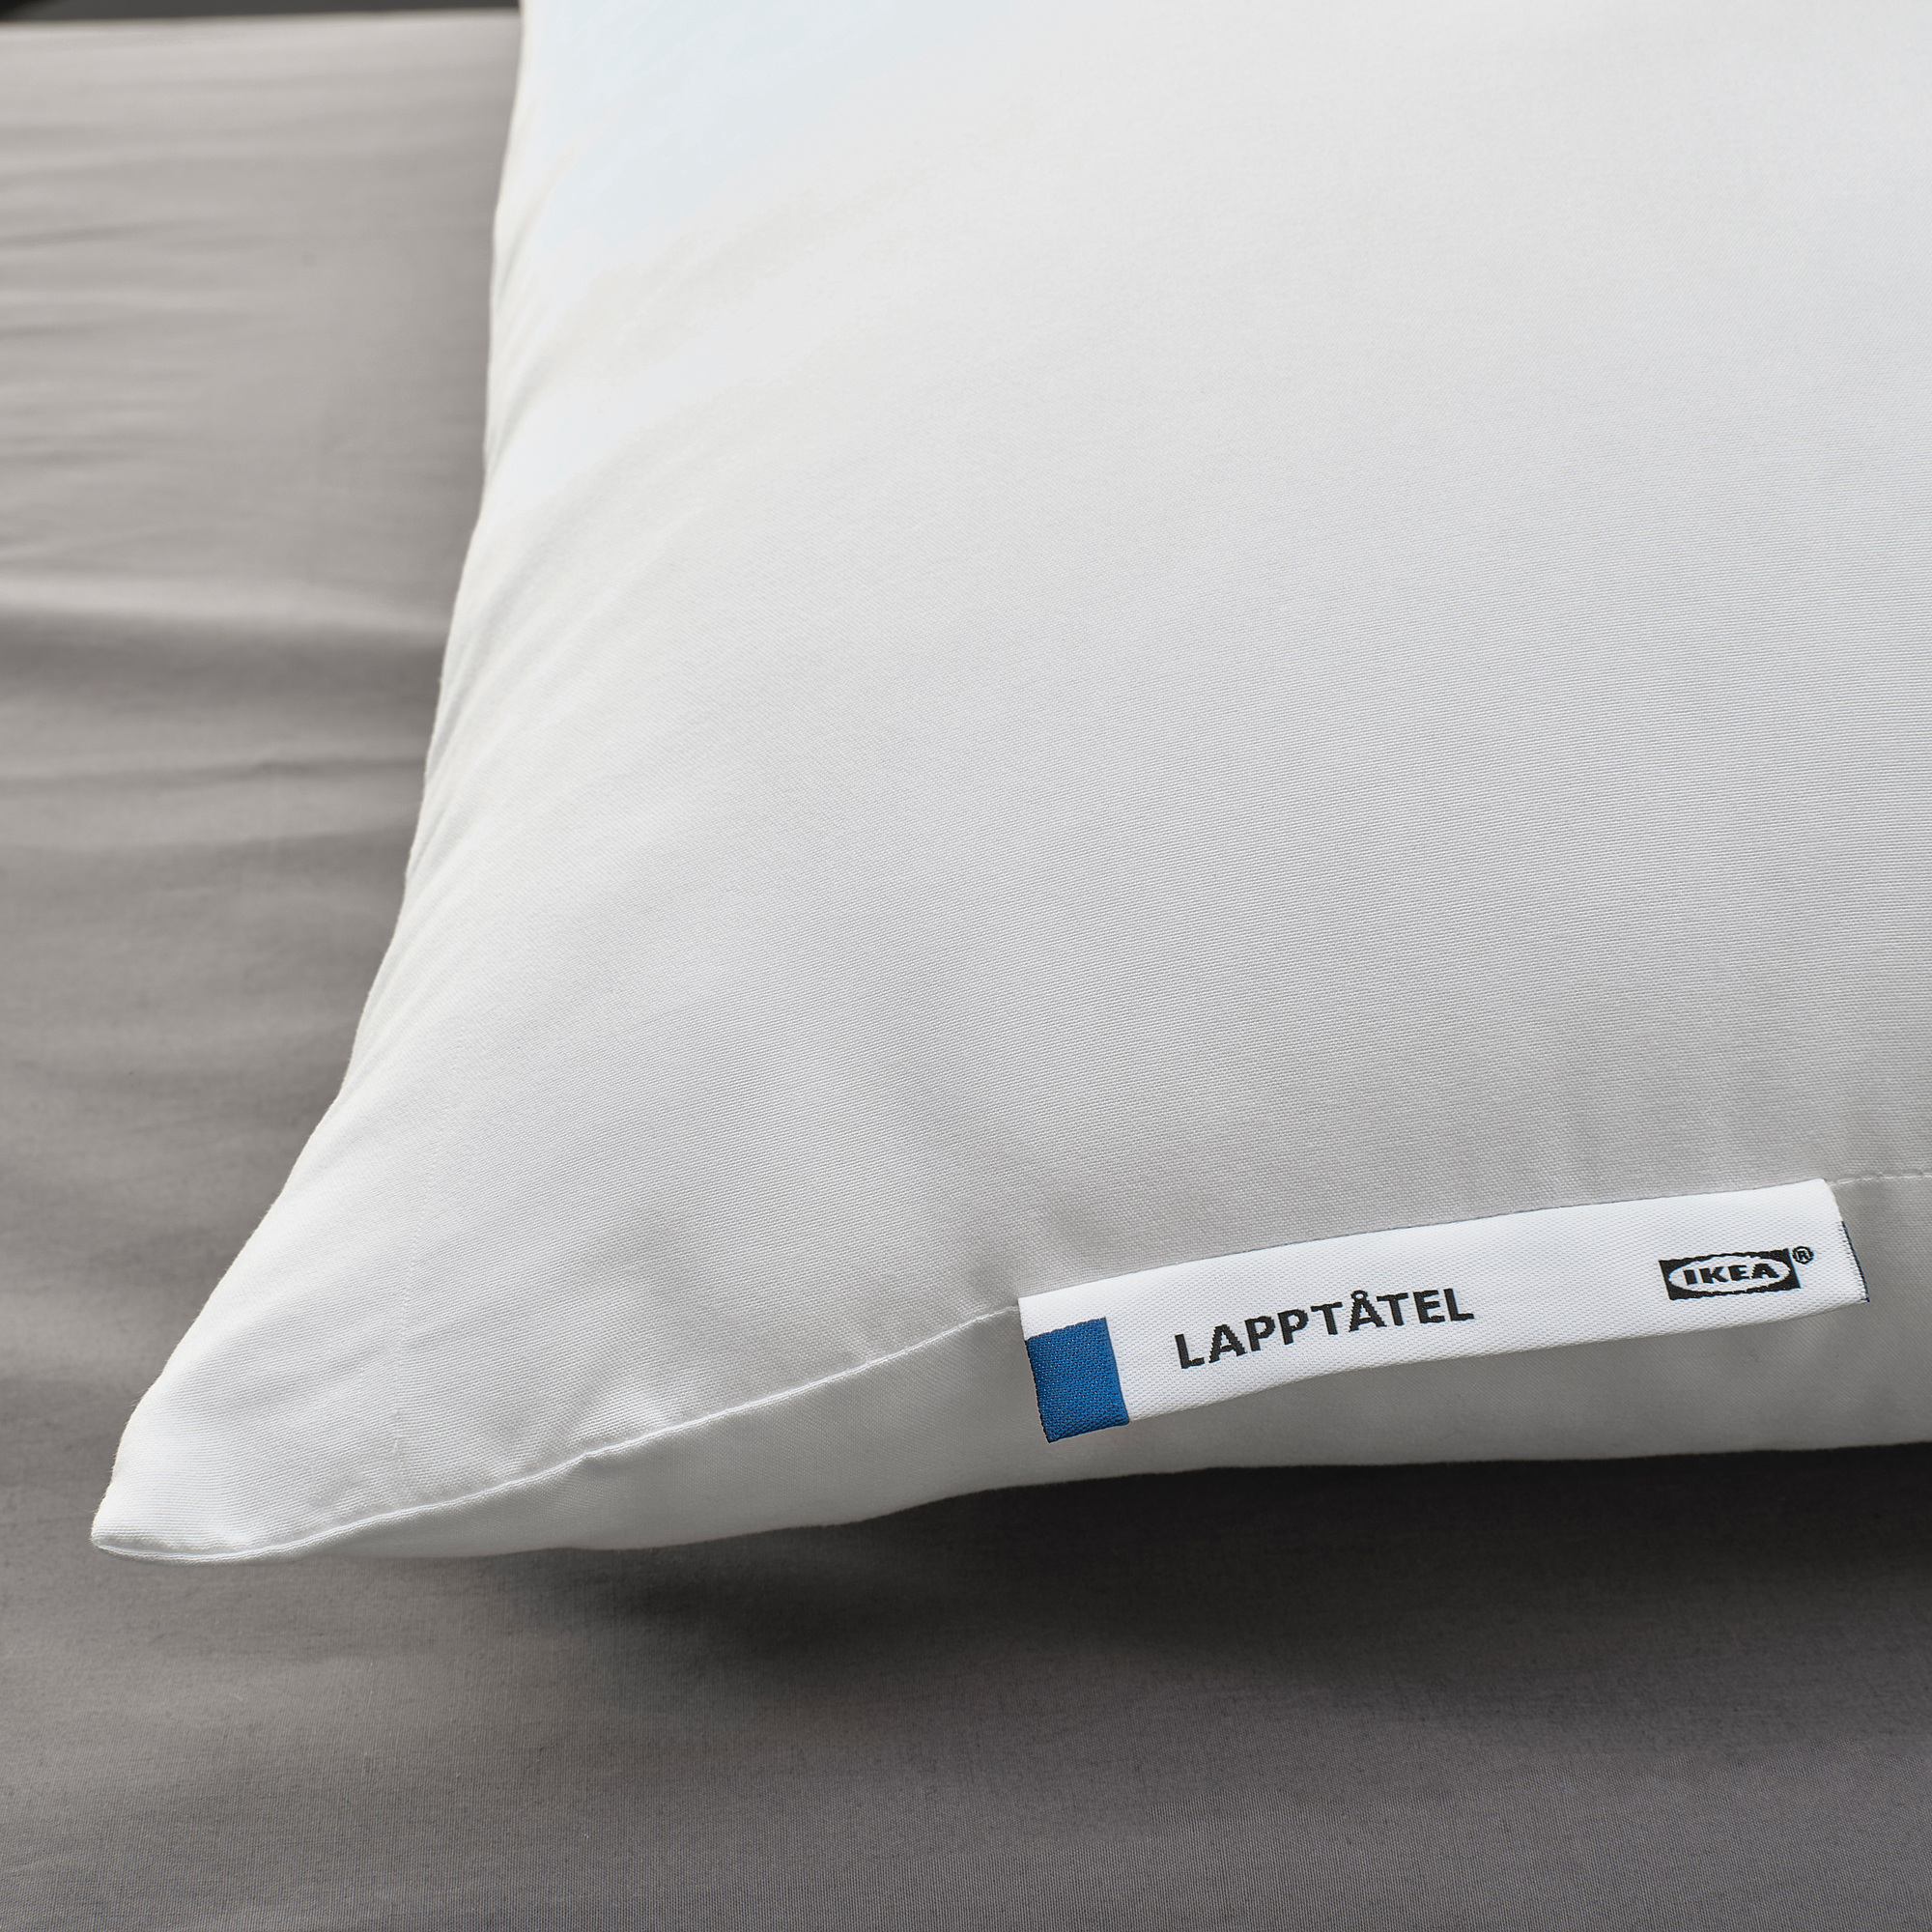bantal: (25, 5, 1932, 1557)
